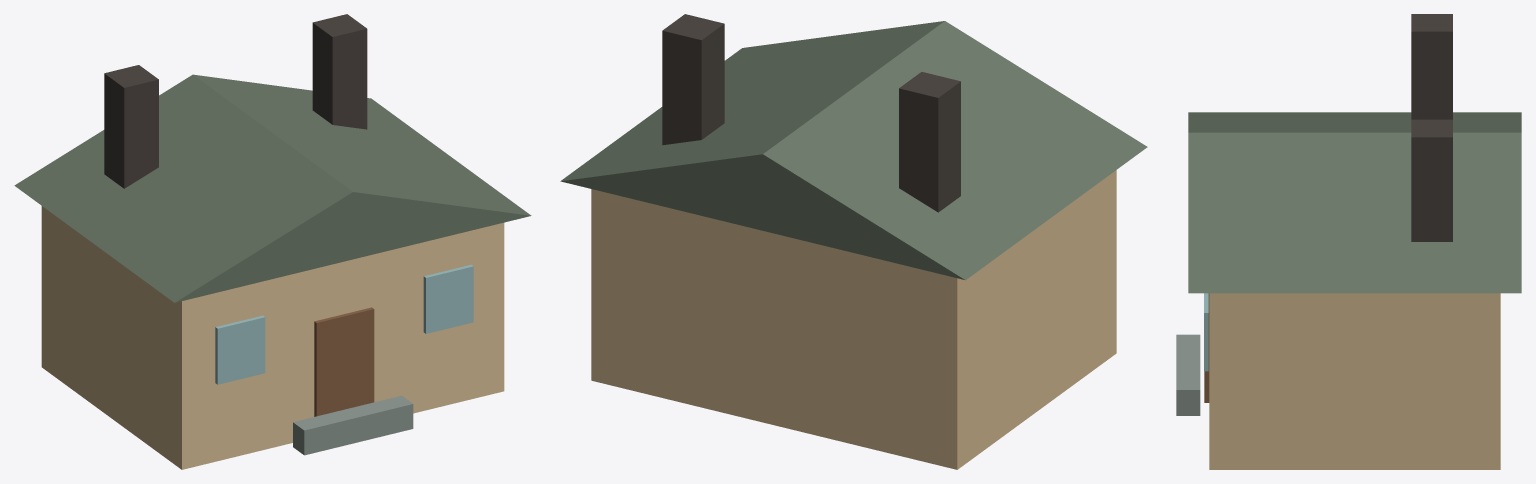
Rendered from bld_workshop.glb.
3 views of the same model, side by side, from view 1: azimuth 30°, elevation 25°; view 2: azimuth 150°, elevation 25°; view 3: azimuth 270°, elevation 25° (orthographic). The views are drawn at different scales.
Visible parts, largest first — view 1: bld_workshop; view 2: bld_workshop; view 3: bld_workshop.
Boxes of the visible parts, left/top/right/bottom form: bld_workshop: left=14, top=14, right=531, bottom=469; bld_workshop: left=560, top=14, right=1147, bottom=469; bld_workshop: left=1176, top=14, right=1521, bottom=469.
Size of the model in its own units: 3.6 by 2.9 by 2.9.
1 material, 1 textured.
